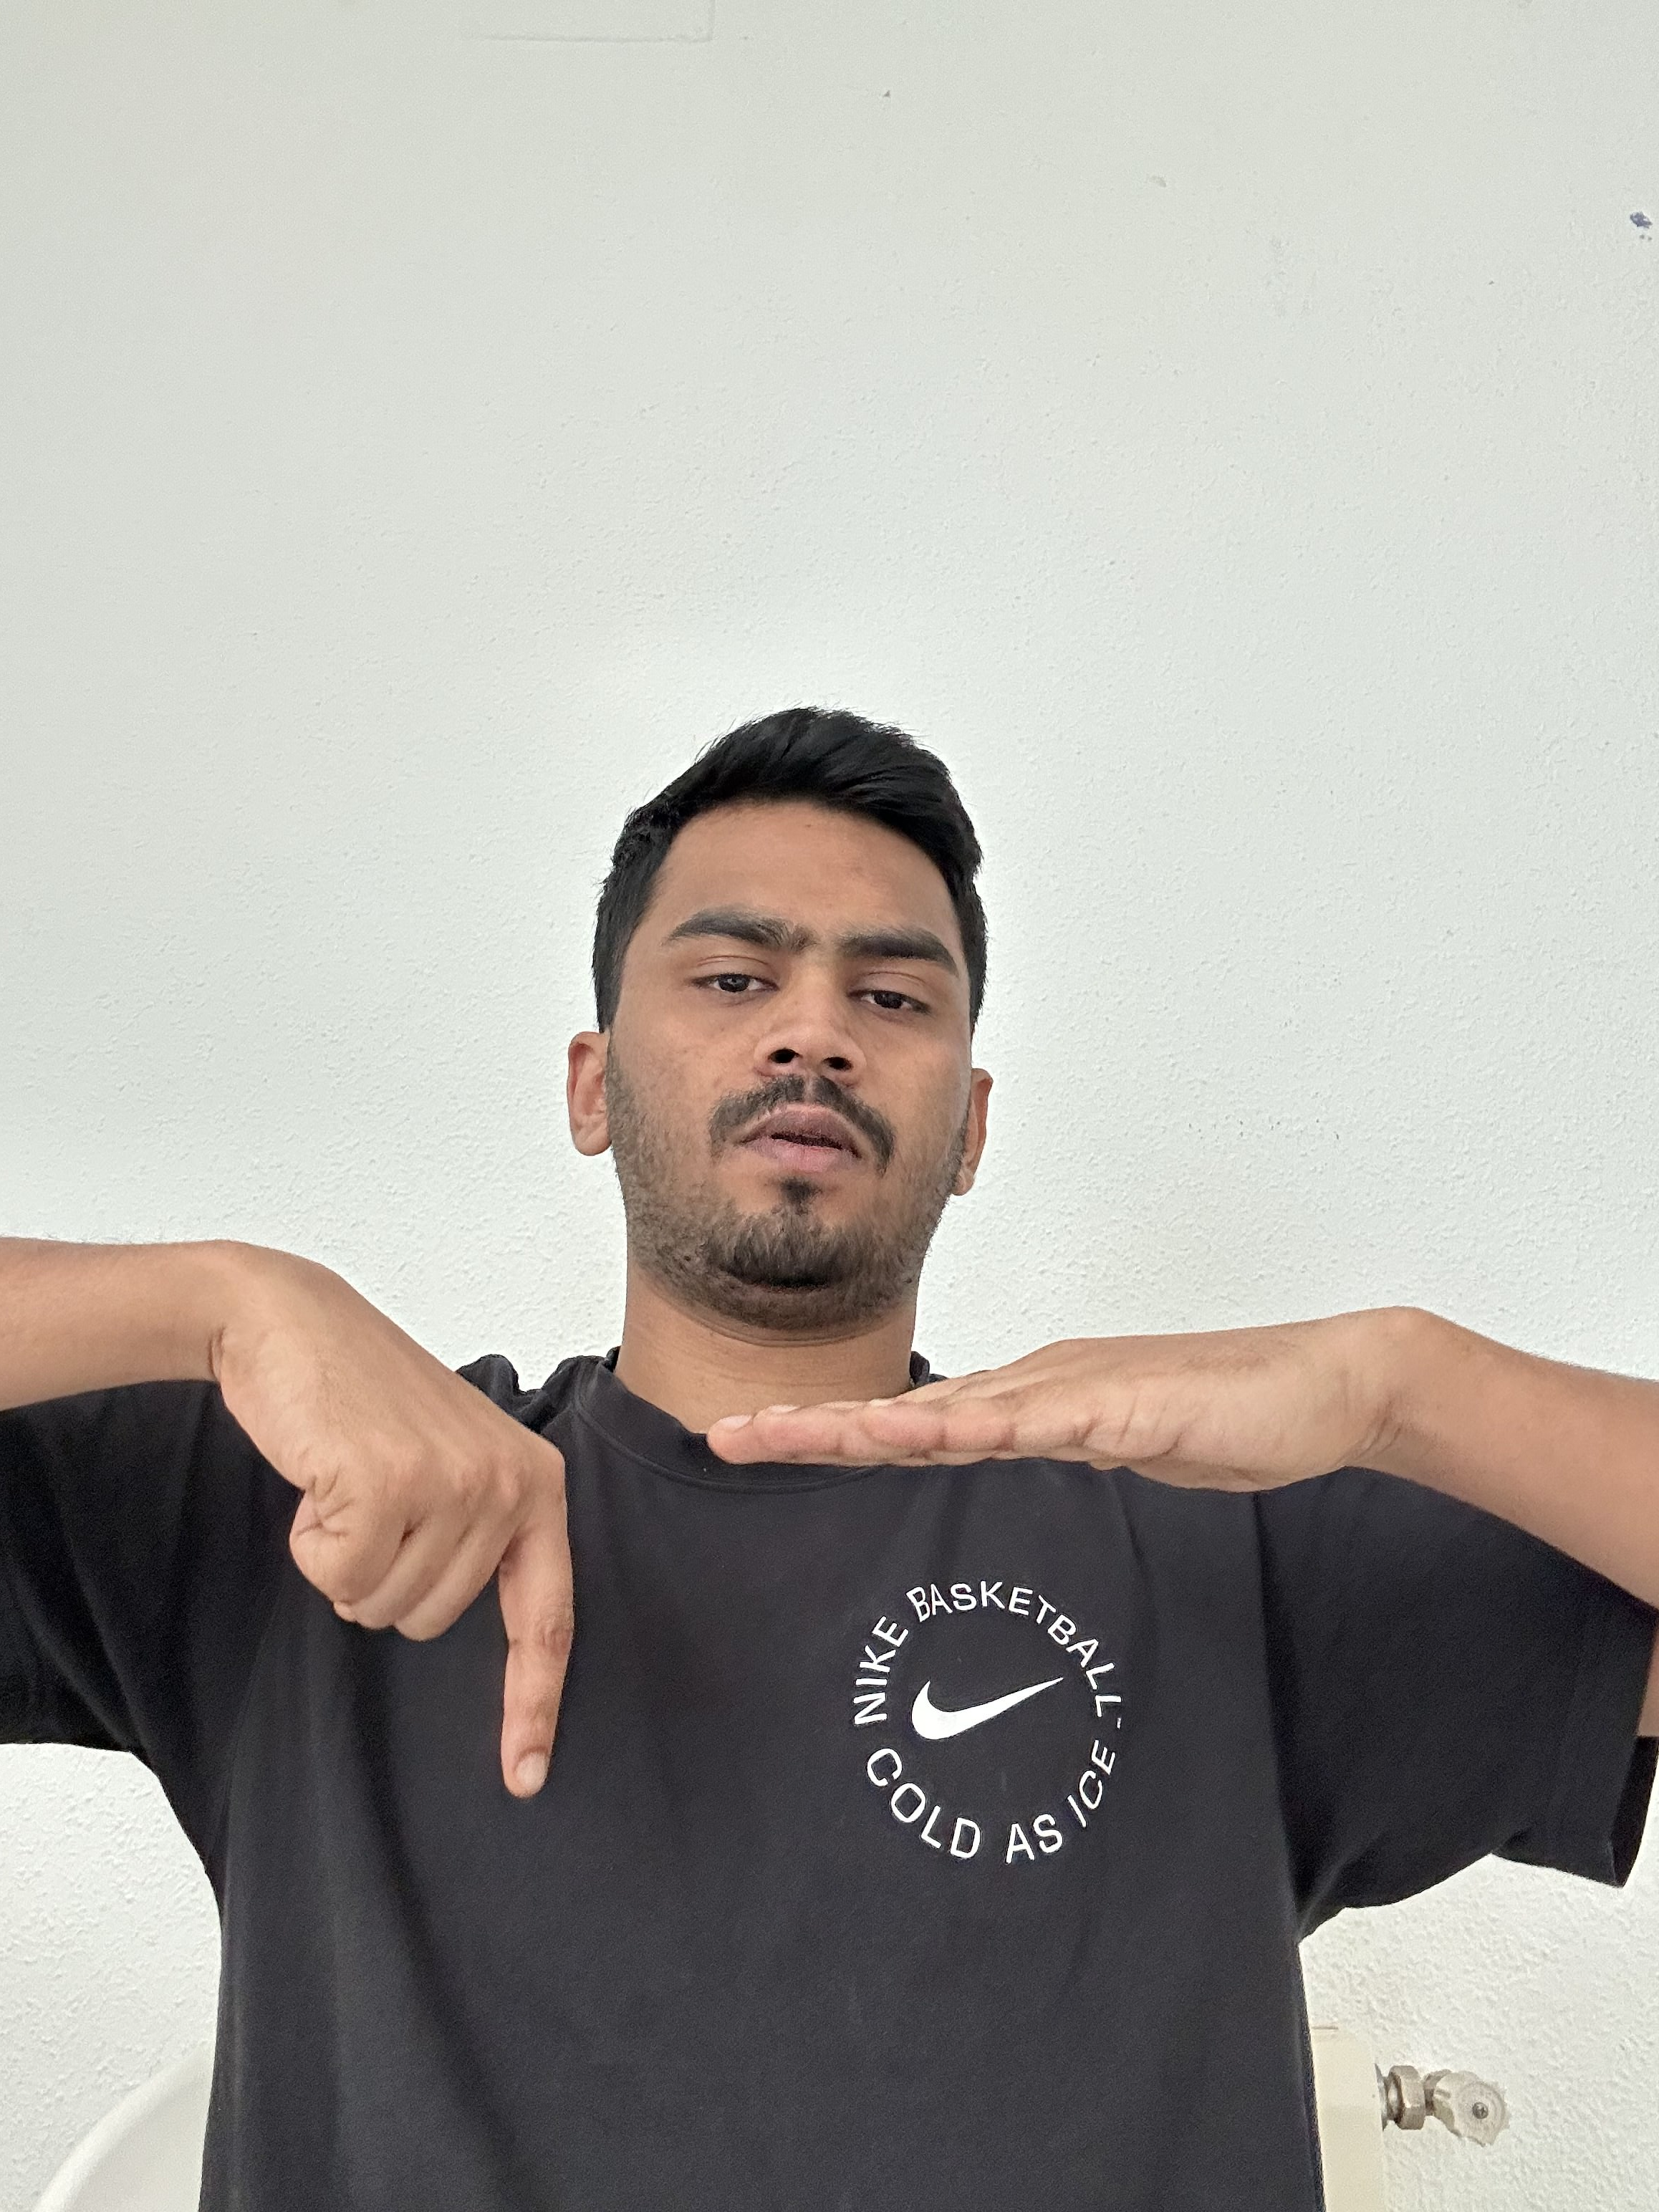deep: (5, 704, 1654, 2203), (842, 1569, 1131, 1871)
